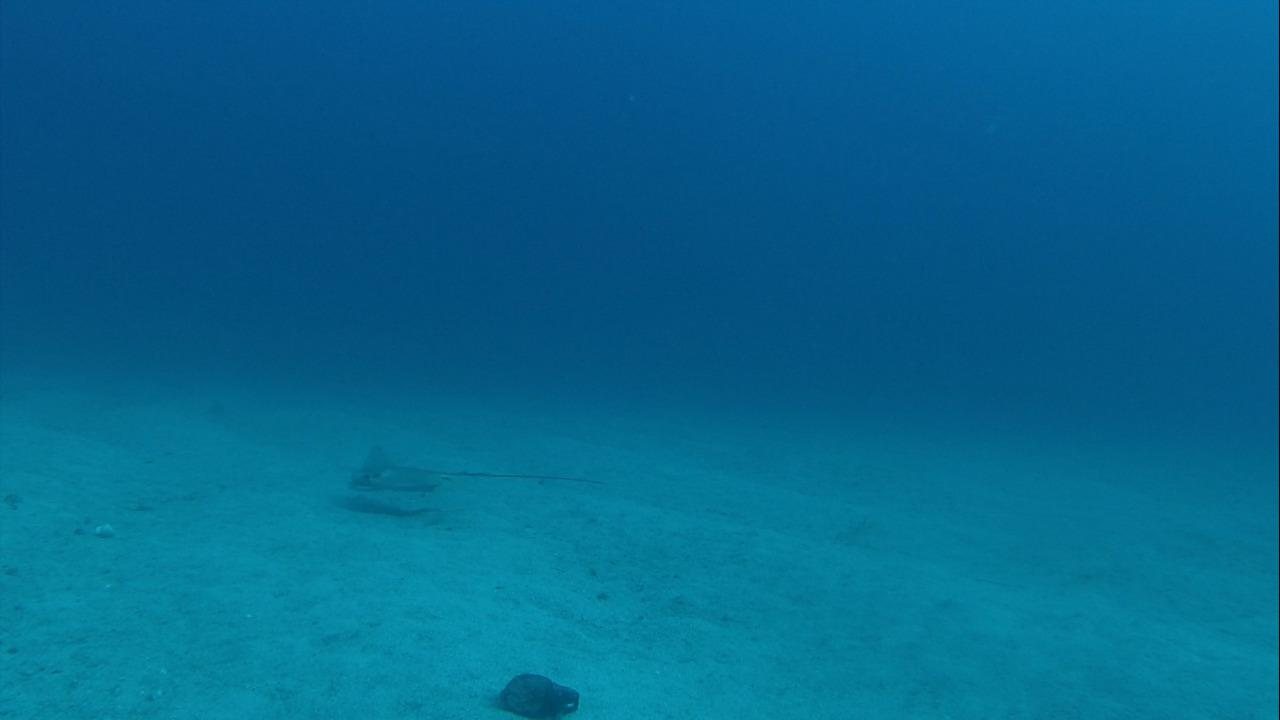myliobatis: (336, 434, 604, 509)
